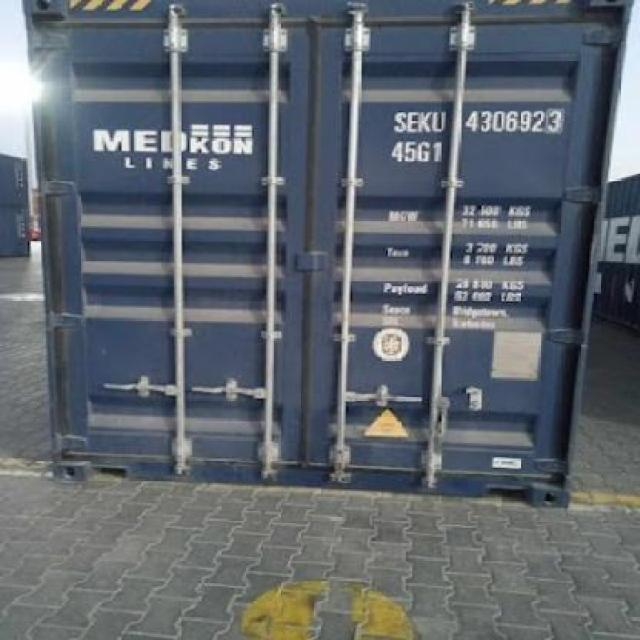ISO: (392, 140, 441, 162)
container_number: (390, 106, 568, 132)
